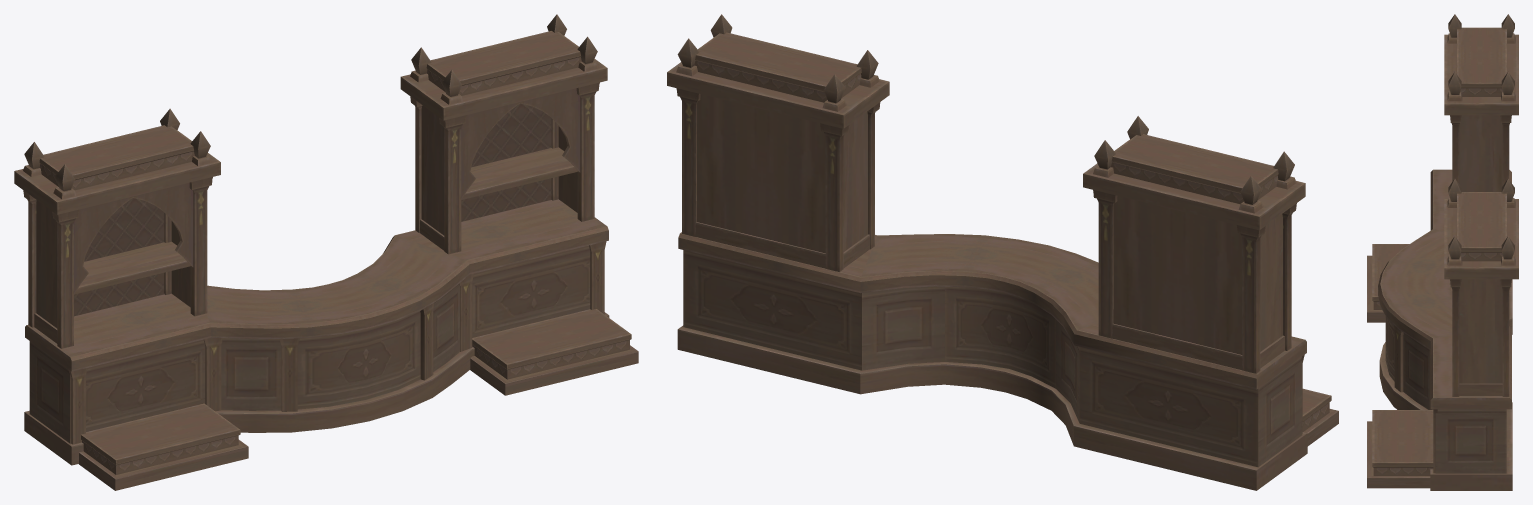
The model's file is Homeworld_Interior_Xm_Table_Build_Barbecue_02_Lod0.fbx.
3 views of the same model, side by side, from view 1: azimuth 30°, elevation 25°; view 2: azimuth 150°, elevation 25°; view 3: azimuth 270°, elevation 25° (orthographic). The views are drawn at different scales.
Visible parts, largest first — view 1: Indoor_Xm_Build_Barbecue_Decoration_04_Lod0; view 2: Indoor_Xm_Build_Barbecue_Decoration_04_Lod0; view 3: Indoor_Xm_Build_Barbecue_Decoration_04_Lod0.
Part boxes in pixels (box(x1,y1,x2,y2)): Indoor_Xm_Build_Barbecue_Decoration_04_Lod0: box(14, 14, 638, 490); Indoor_Xm_Build_Barbecue_Decoration_04_Lod0: box(667, 14, 1338, 490); Indoor_Xm_Build_Barbecue_Decoration_04_Lod0: box(1367, 14, 1518, 490).
Bounding box in the file's own units: 5.28 × 2.66 × 1.45.
